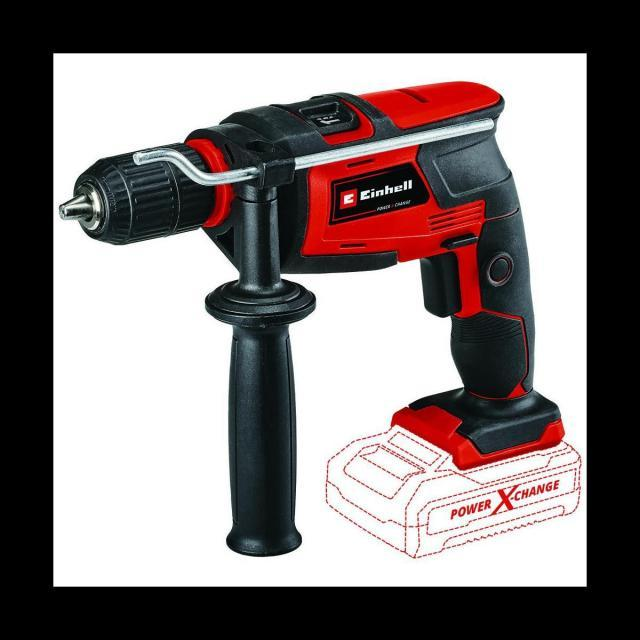drill: (58, 80, 582, 558)
